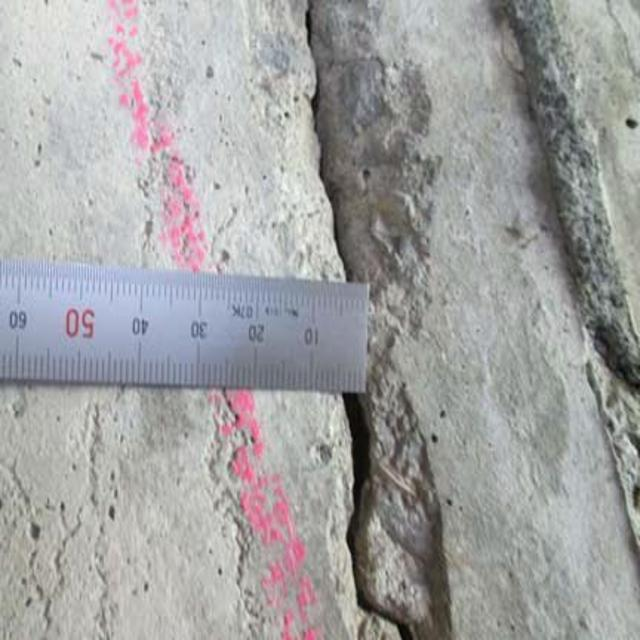crack: (270, 17, 427, 290), (322, 400, 432, 640)
